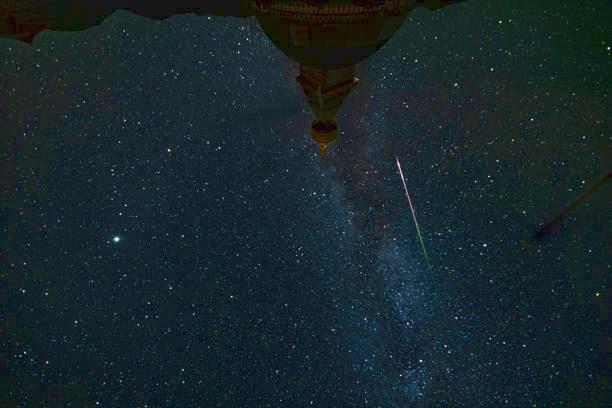meteorite: (380, 145, 438, 281)
